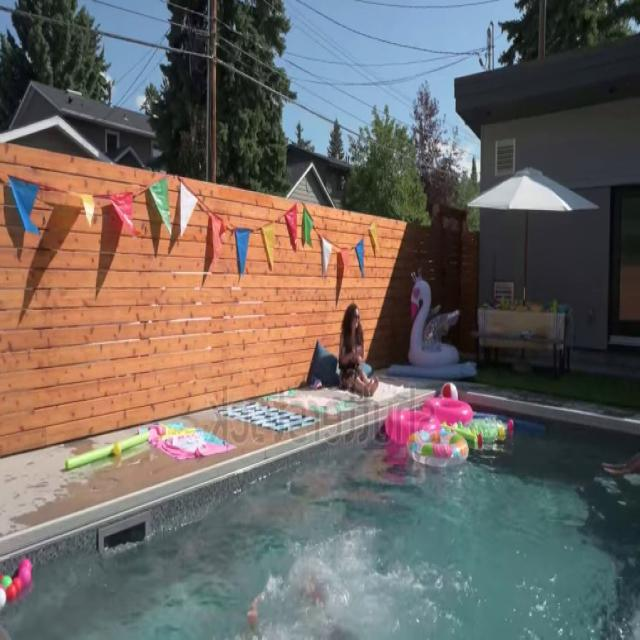adult: (338, 304, 379, 399)
